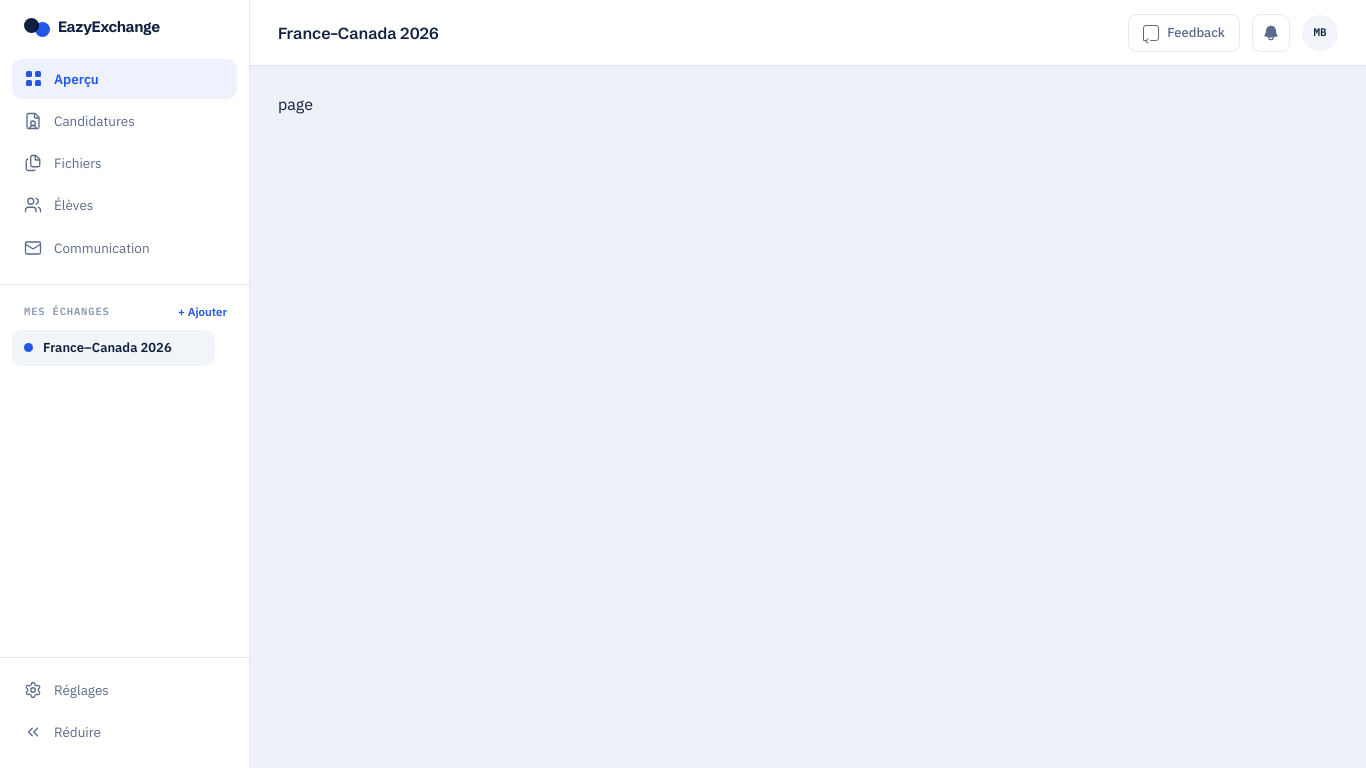
Test: OrganizerShell › the collapse toggle hides labels and persists the preference
Expected: the text "Candidatures" is shown, [54,111,135,131]
Step 1. Click the button "Réduire" → (62, 732), box [12,712,113,752]
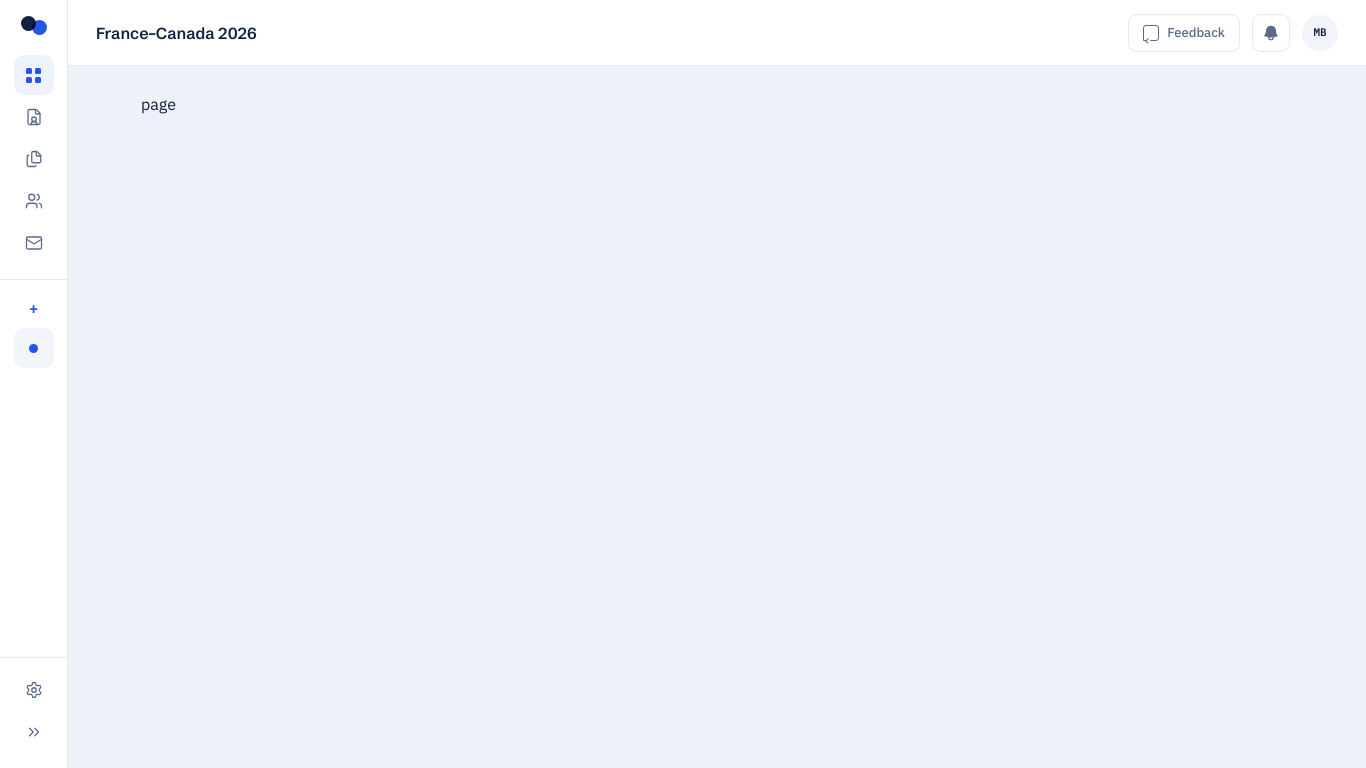
Expected: the link named "Candidatures" is shown, [24,108,42,126]
Expected: the text "Candidatures" is gone
